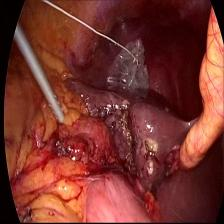Irrigator: (44, 84, 66, 127)
Specimen Bag: (101, 20, 158, 95)
